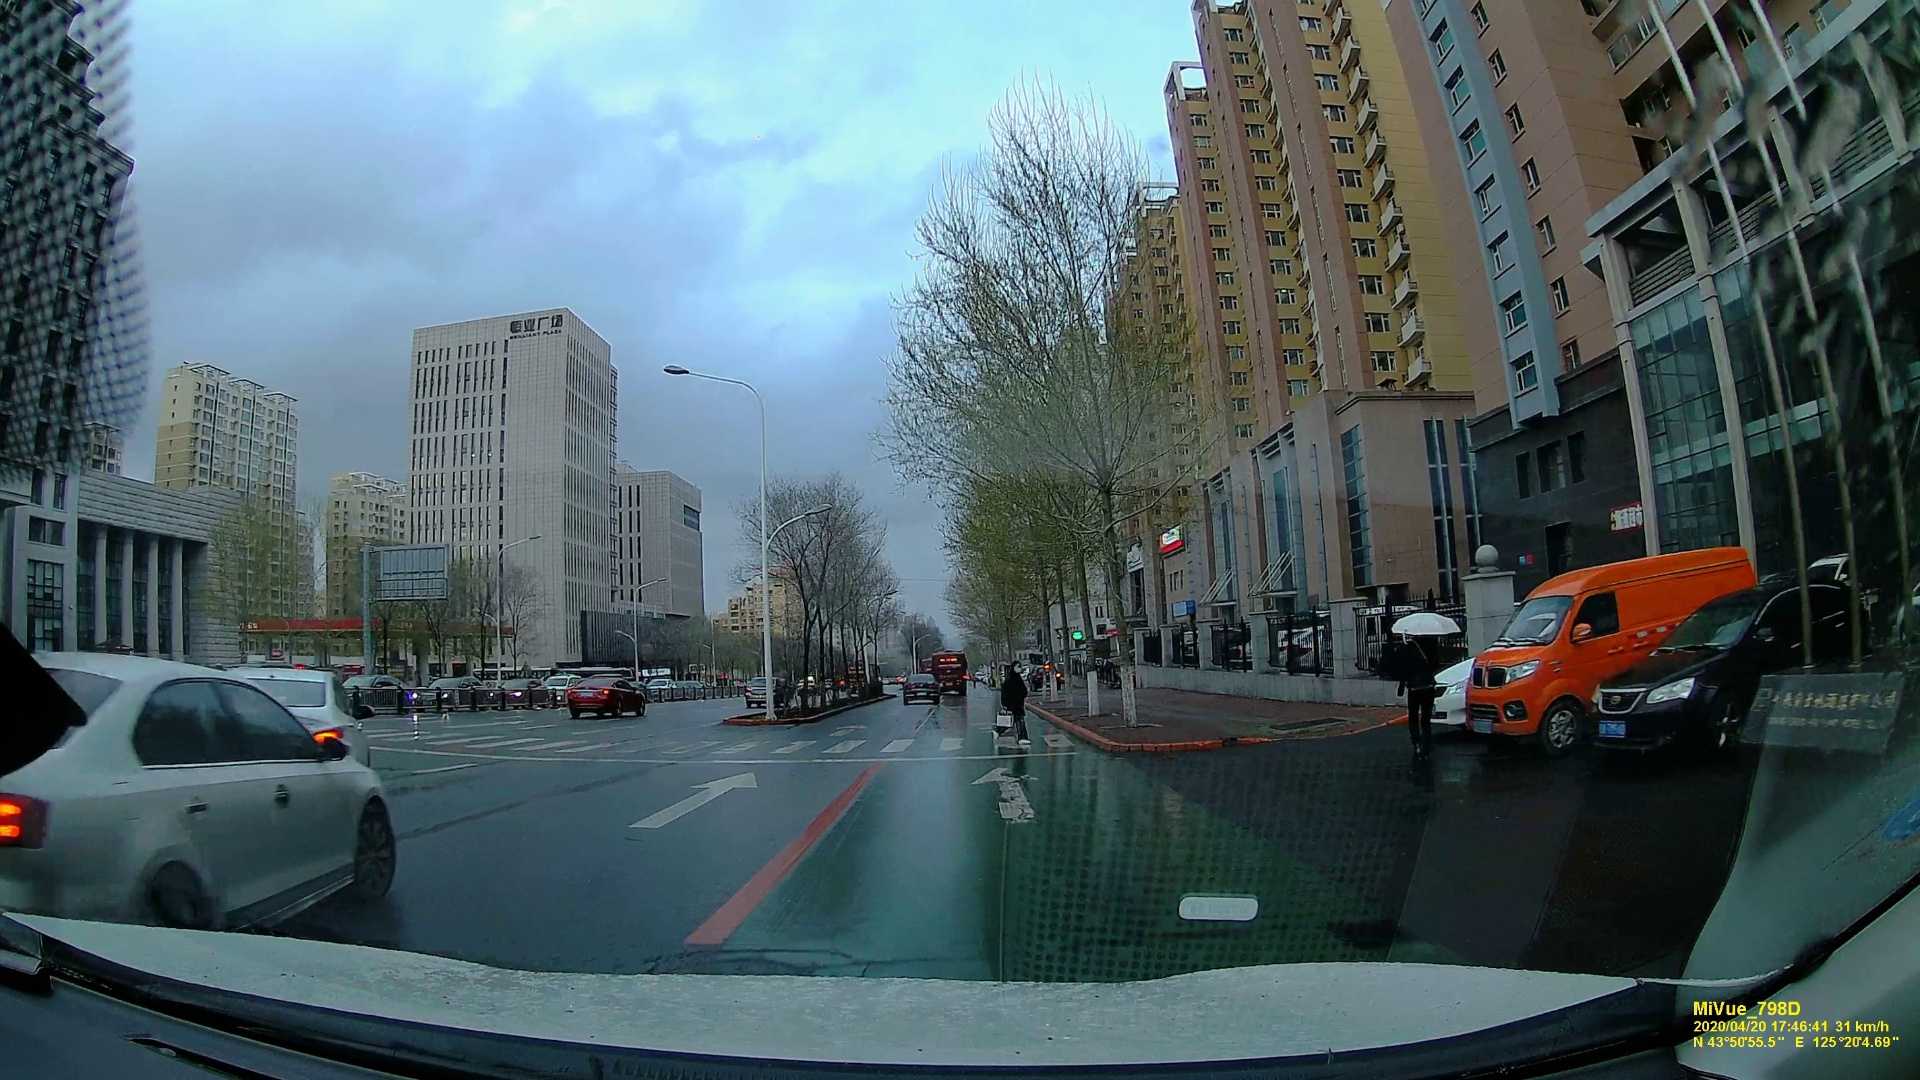bus: (929, 654, 965, 692)
minibus: (1460, 566, 1600, 765)
person: (1380, 608, 1448, 754), (989, 650, 1040, 757)
traffic_sign: (1750, 666, 1901, 754)
vehicle: (1, 654, 396, 936), (561, 680, 646, 721), (900, 673, 939, 703)
